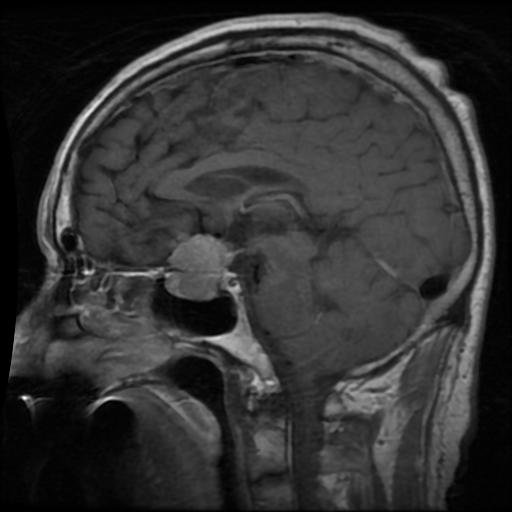Pituirity_tumour: (165, 231, 230, 297)
